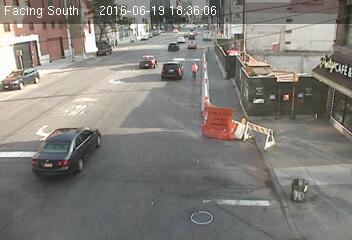neg: (304, 71, 333, 110), (280, 170, 305, 204), (107, 166, 130, 197), (174, 155, 197, 185), (32, 190, 55, 220), (248, 128, 270, 158), (64, 47, 86, 77), (190, 204, 212, 233), (267, 74, 288, 102), (34, 98, 55, 126), (88, 112, 108, 139), (164, 61, 184, 87), (208, 118, 227, 143), (248, 16, 267, 41), (296, 32, 312, 54), (131, 34, 147, 56), (58, 146, 73, 166), (128, 87, 142, 106)
pos: (187, 57, 205, 80)
